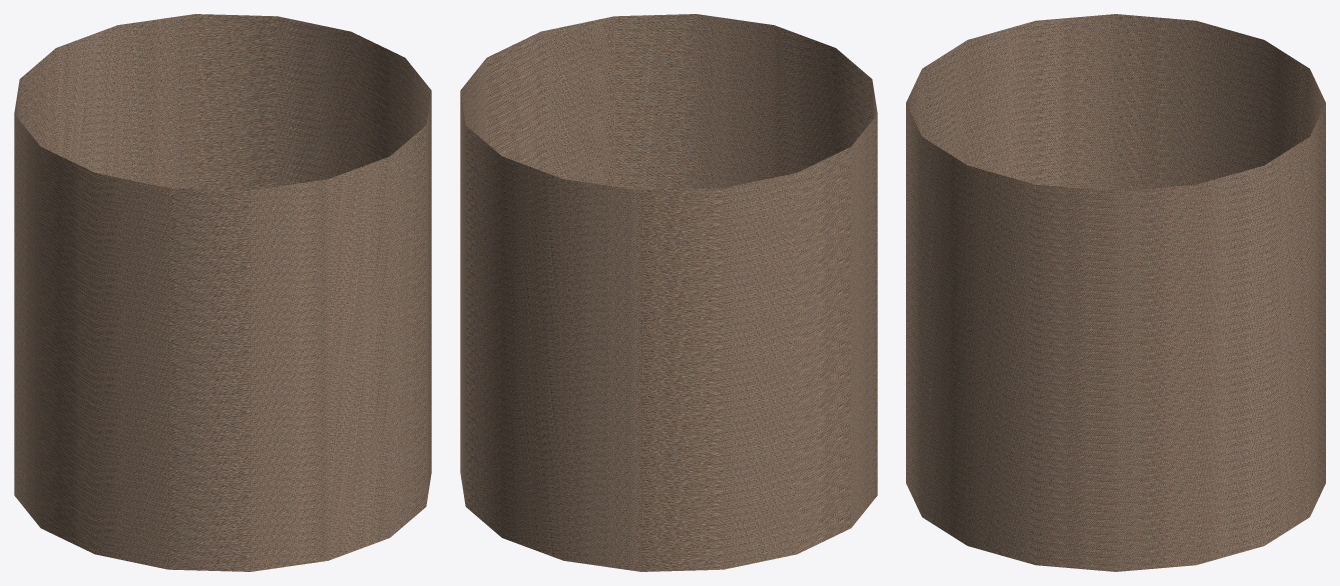
File: rope.fbx
The picture shows the model from 3 angles, left to right: view 1: azimuth 30°, elevation 25°; view 2: azimuth 150°, elevation 25°; view 3: azimuth 270°, elevation 25°; orthographic projection.
Parts seen in each view (by area): view 1: rope; view 2: rope; view 3: rope.
Part boxes in pixels (x1,y1,x2,y2): rope: (14, 14, 431, 571); rope: (460, 14, 877, 571); rope: (906, 14, 1325, 571).
Bounding box in the file's own units: 100 × 100 × 100.
